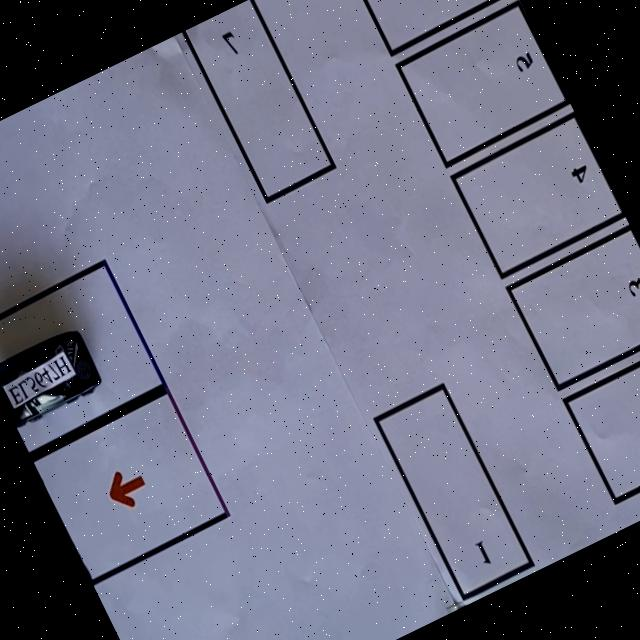car: (0, 318, 112, 432)
